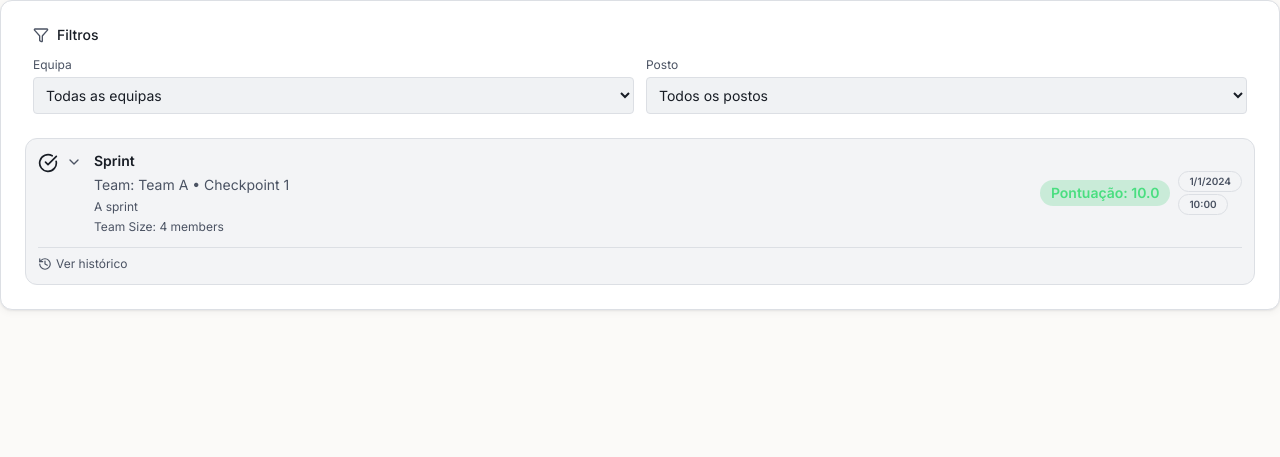
AllEvaluations › renders BooleanActivity success/failed badge
This screenshot has width=1280, height=457.
Click the button "Sprint": (114, 160) [38,151,1028,235]
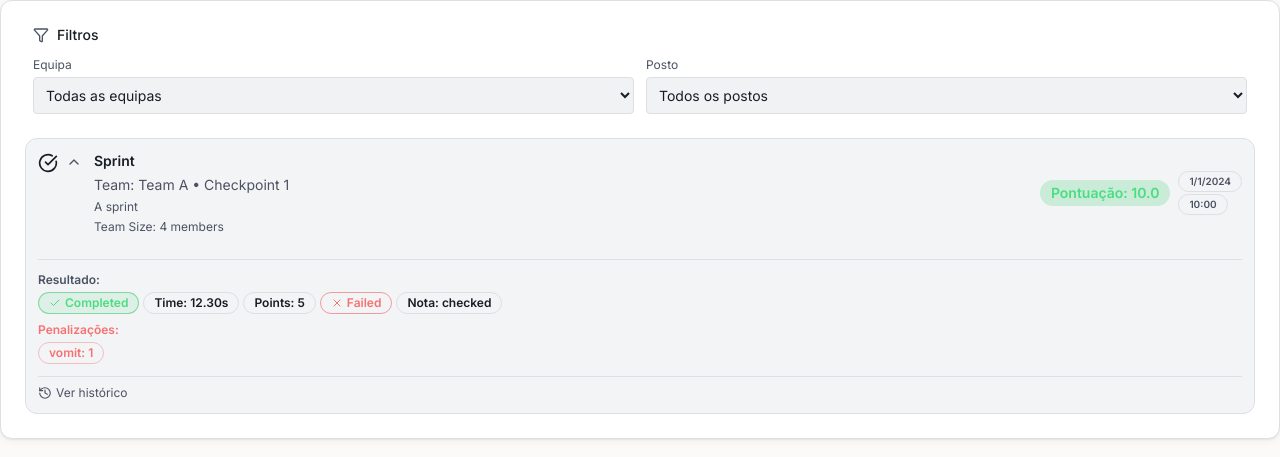
Now the text "Failed" is shown, box [320,292,392,314]
